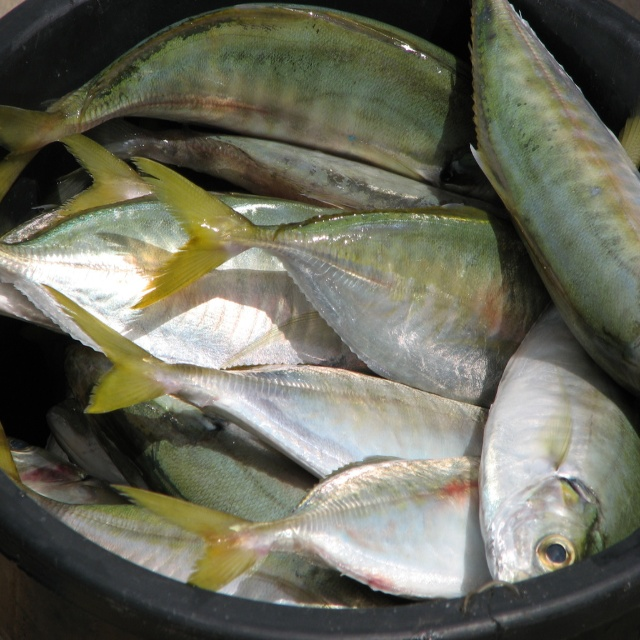Fish: (0, 0, 640, 597)
